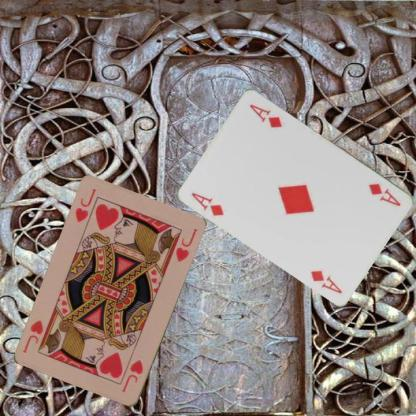Ad: (366, 180, 403, 208), (189, 190, 225, 217)
Jh: (72, 186, 98, 224), (119, 358, 145, 394)
